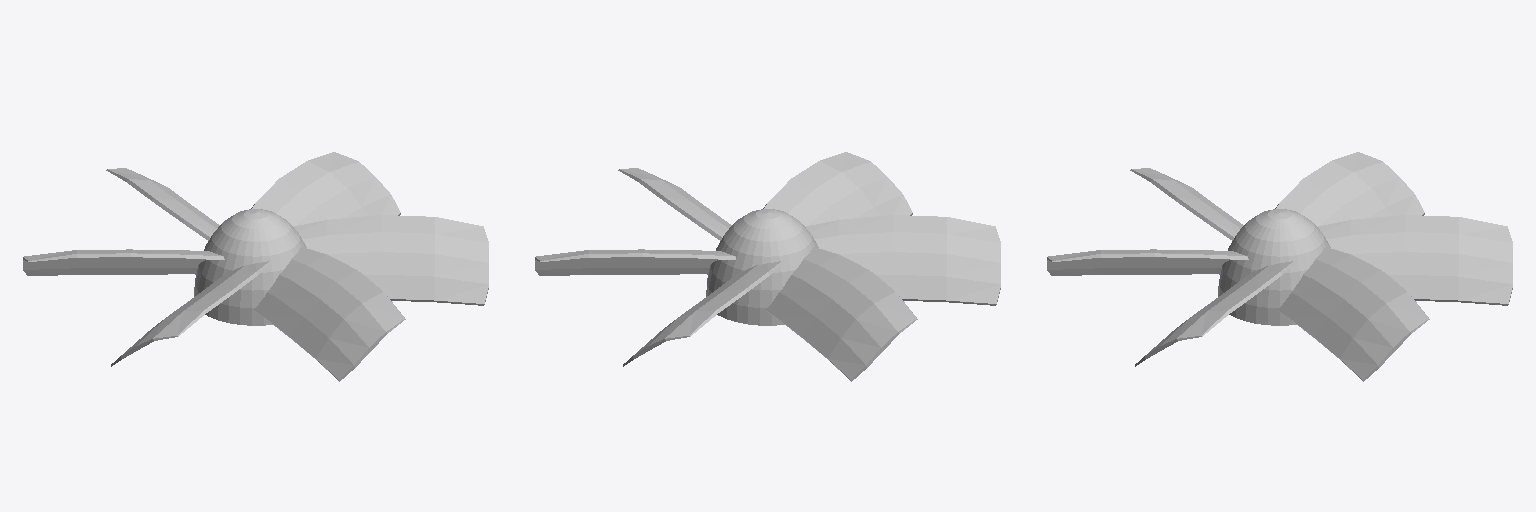
The model's file is copter.obj.
3 renders of one model, left to right at view 1: azimuth 30°, elevation 25°; view 2: azimuth 150°, elevation 25°; view 3: azimuth 270°, elevation 25°, orthographic.
Parts seen in each view (by area): view 1: Plane.005; view 2: Plane.005; view 3: Plane.005.
Boxes of the visible parts, x1,y1,x2,y2 form: Plane.005: [23, 152, 488, 381]; Plane.005: [535, 152, 1000, 381]; Plane.005: [1047, 152, 1512, 381].
Bounding box in the file's own units: 0.9221 × 0.203 × 0.9866.